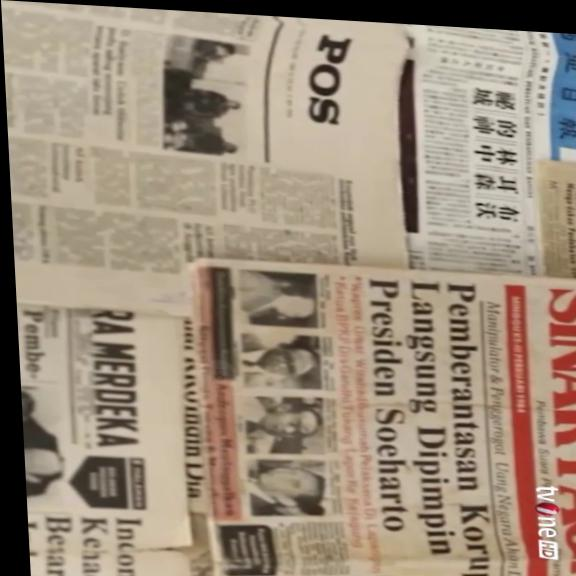Kertas: (181, 255, 576, 576), (3, 1, 418, 300)
